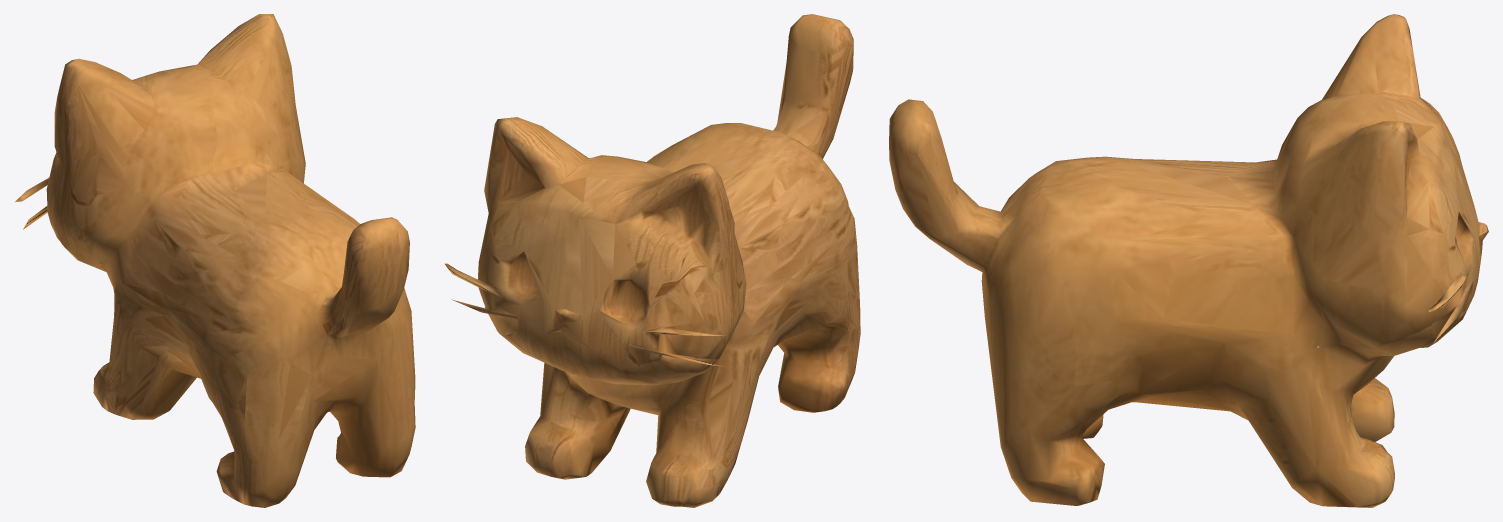
The model's file is cat.glb.
3 views of the same model, side by side, from view 1: azimuth 30°, elevation 25°; view 2: azimuth 150°, elevation 25°; view 3: azimuth 270°, elevation 25° (orthographic). The views are drawn at different scales.
Visible parts, largest first — view 1: animal_cat; view 2: animal_cat; view 3: animal_cat.
Part boxes in pixels (x1,y1,x2,y2): animal_cat: [15, 14, 415, 507]; animal_cat: [444, 14, 860, 507]; animal_cat: [889, 14, 1488, 507].
Bounding box in the file's own units: 0.0259 × 0.0297 × 0.0409.
1 material, 1 textured.
